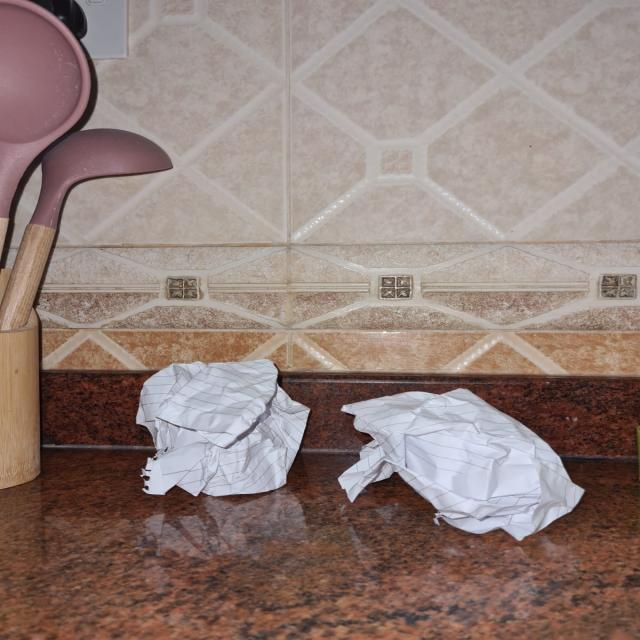Paper: (342, 387, 586, 542), (141, 352, 308, 497)
